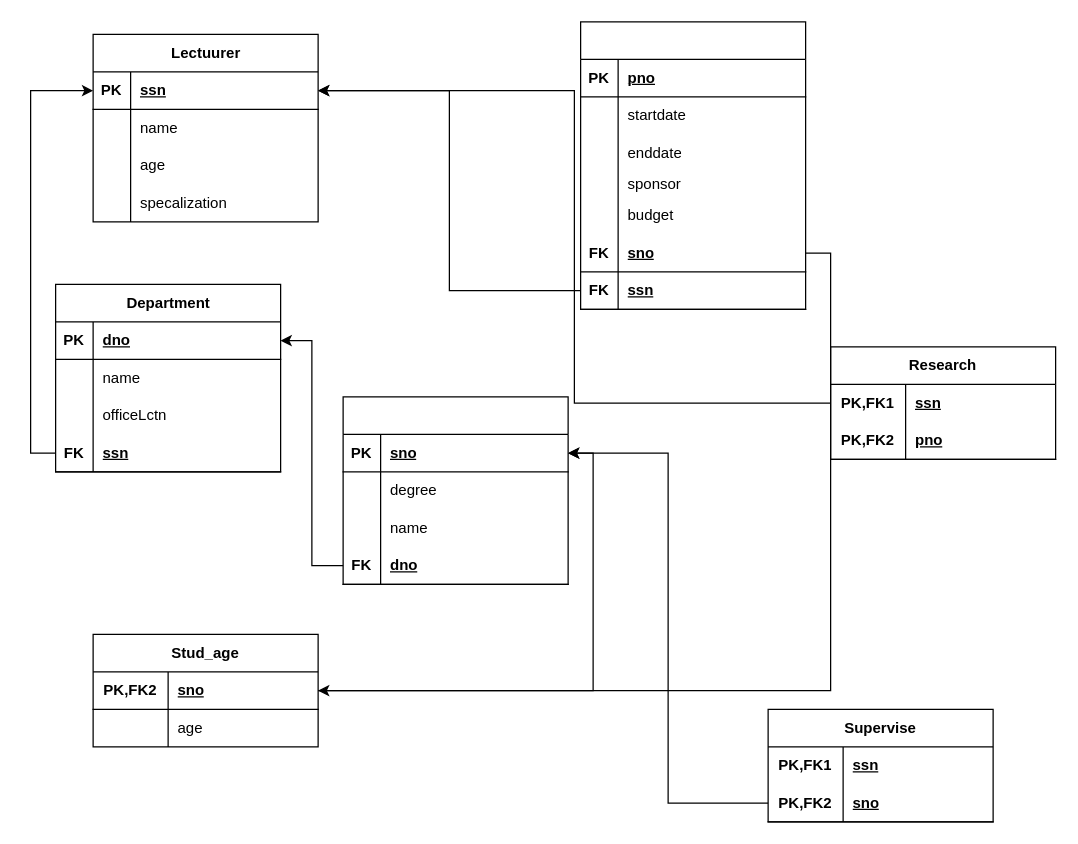
Some shapes in this 1078 by 844 pixel diagram are drawn without their labels. Each missing label, with the box of its shape:
Project: (579, 21, 806, 309)
Student: (342, 396, 568, 584)
